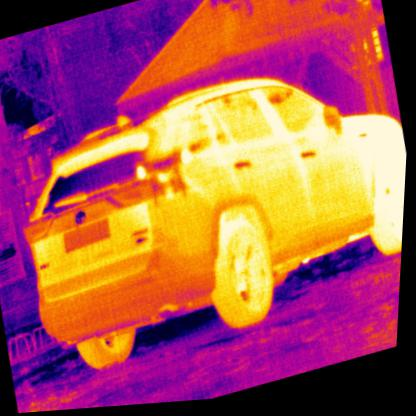drone: (133, 148, 200, 211)
vehicle: (0, 38, 412, 388)
